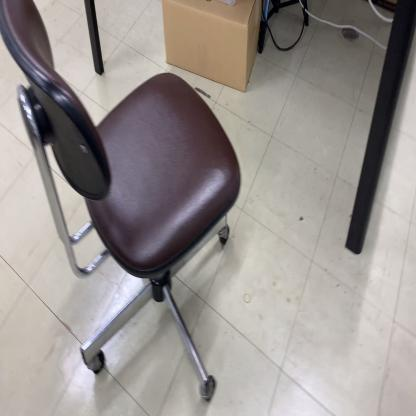chair: (0, 0, 244, 402)
